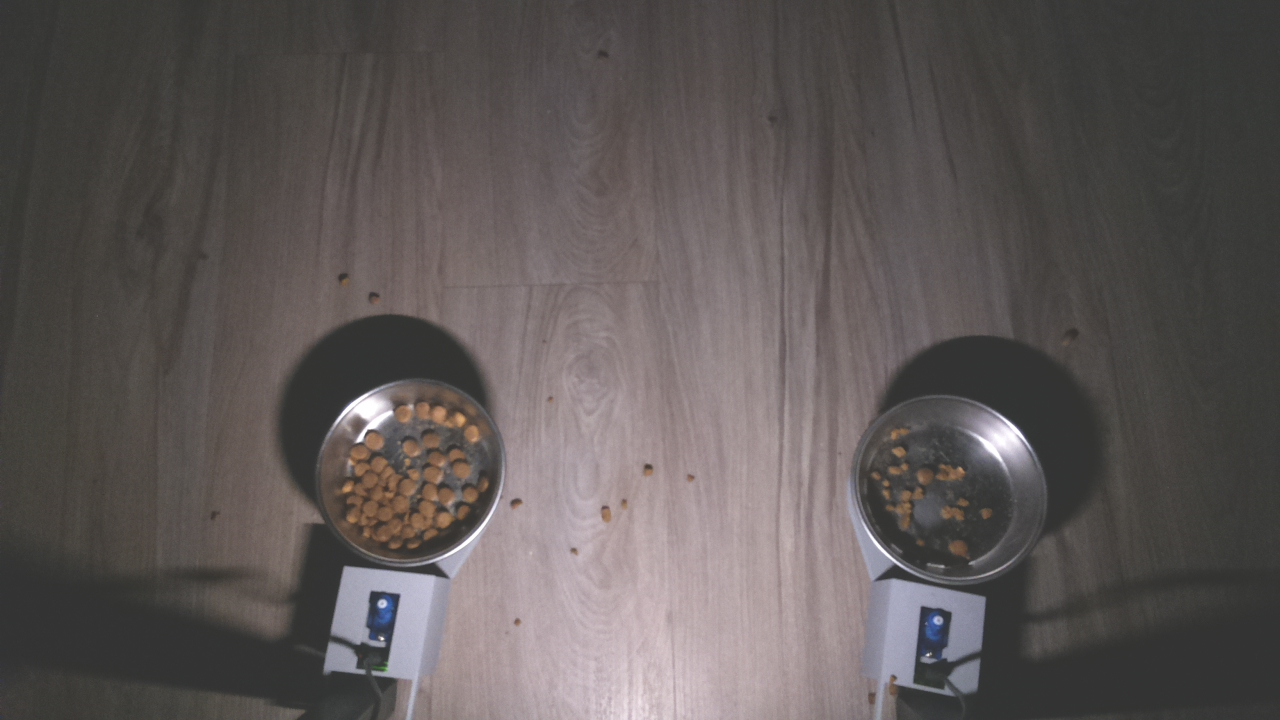open_bowl: (840, 390, 1054, 589), (313, 372, 513, 576)
